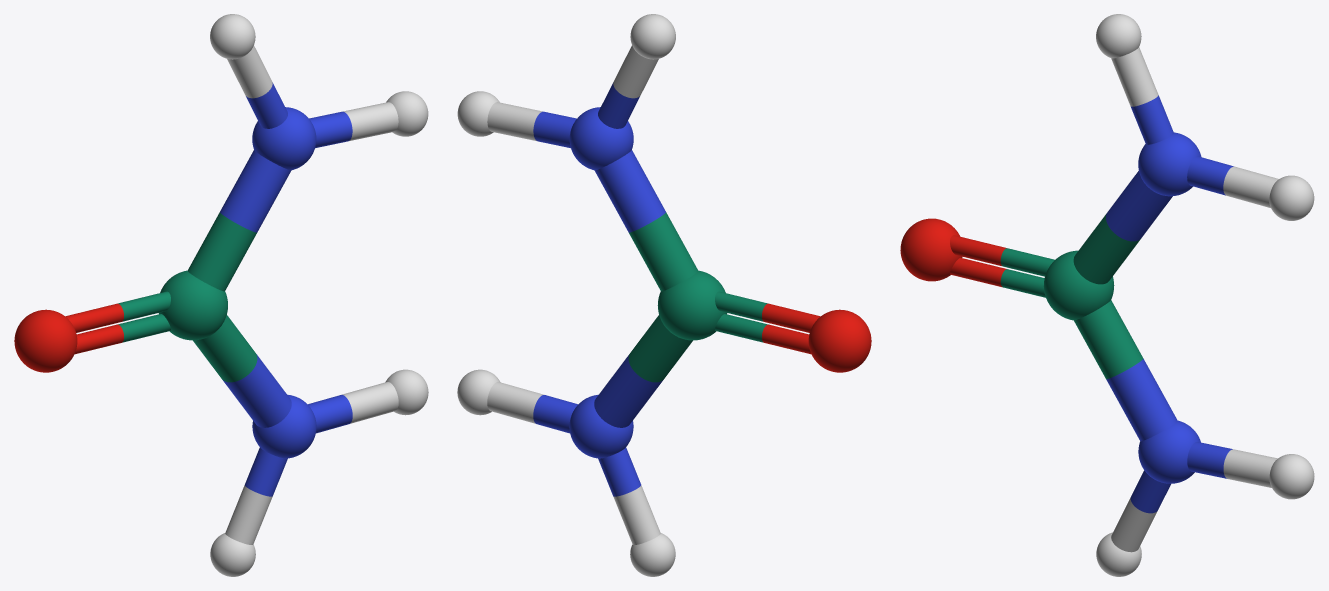
The model's file is Urea.glb.
3 renders of one model, left to right at view 1: azimuth 30°, elevation 25°; view 2: azimuth 150°, elevation 25°; view 3: azimuth 330°, elevation 25°, orthographic.
Bounding box in the file's own units: 3.4 × 4.46 × 0.51.
